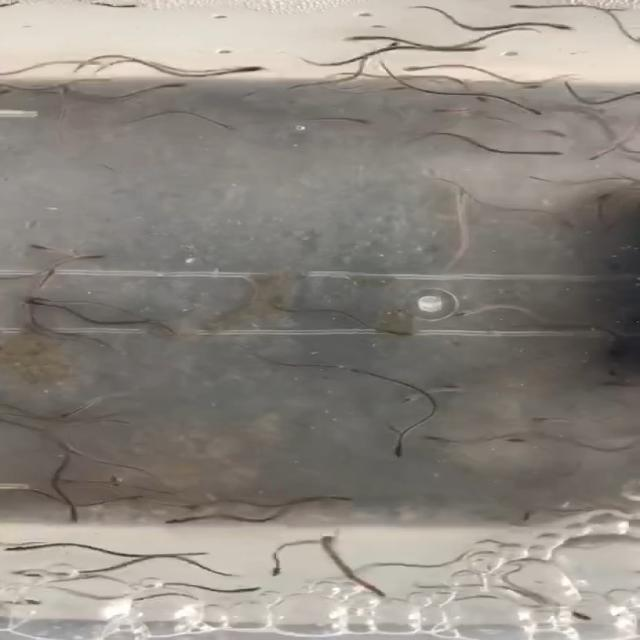active_glass_eel: (11, 562, 72, 582), (106, 0, 156, 17), (550, 606, 597, 623), (51, 56, 103, 70), (542, 212, 579, 231), (59, 500, 86, 526), (103, 465, 130, 490), (49, 405, 94, 420), (402, 387, 439, 405), (388, 436, 414, 460), (109, 491, 148, 507), (0, 542, 47, 555), (156, 512, 199, 526), (214, 584, 274, 594), (312, 493, 354, 507), (536, 19, 575, 34), (583, 146, 617, 163), (14, 240, 60, 252), (497, 1, 546, 12), (497, 436, 538, 449), (451, 185, 474, 208), (451, 306, 491, 319), (0, 598, 47, 609), (162, 76, 194, 92), (524, 148, 565, 160), (518, 102, 545, 120), (36, 263, 57, 285), (53, 476, 94, 487), (266, 561, 296, 576), (20, 294, 54, 307), (381, 37, 403, 57), (49, 83, 73, 101), (476, 94, 500, 112), (428, 106, 470, 116), (527, 128, 569, 138), (70, 252, 112, 262), (333, 34, 374, 44), (382, 328, 427, 337), (230, 63, 266, 74), (456, 44, 492, 55), (518, 416, 567, 424), (208, 120, 238, 133), (333, 116, 375, 125), (397, 64, 433, 74), (380, 83, 416, 93), (421, 432, 452, 443), (512, 84, 544, 93)
